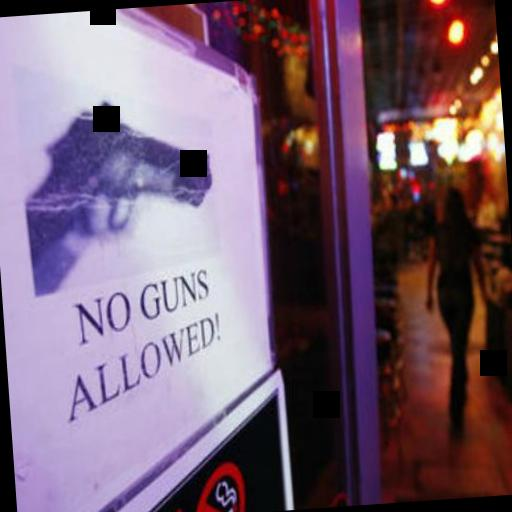Handgun: (14, 89, 214, 268)
